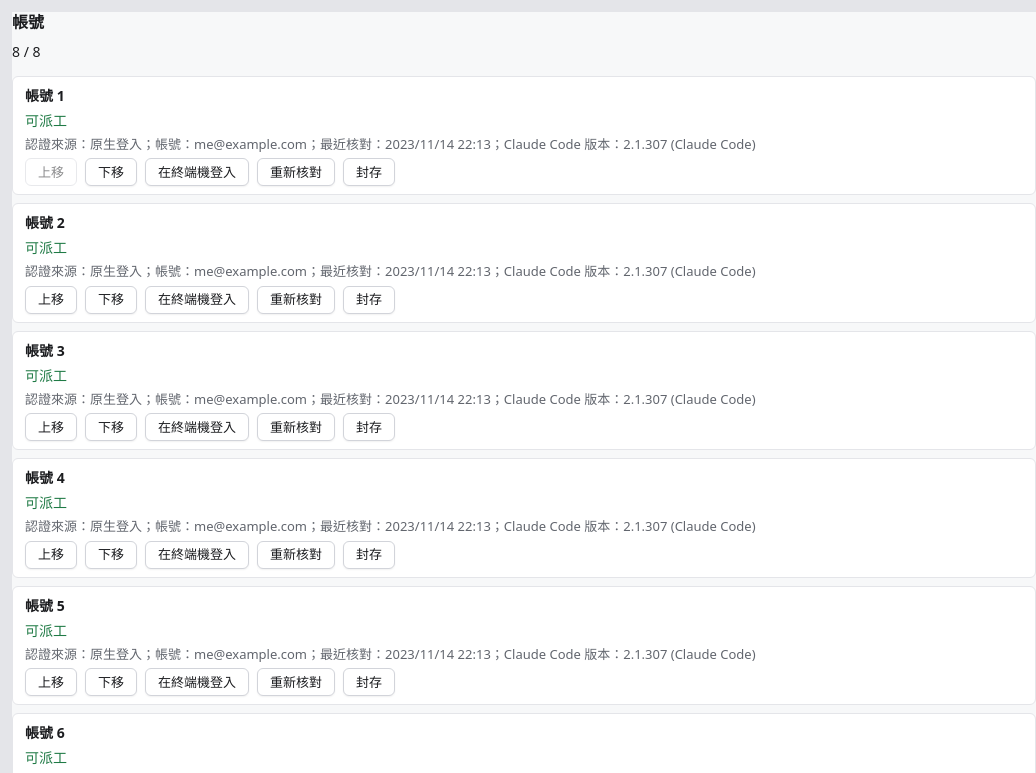
Test: 帳號頁 › 已有 8 個 Profile 時不能再新增，並說明上限；封存後恢復
The image size is (1036, 773).
Expected: the text "8 / 8" is shown, [12,42,40,61]
Click the button with aria-label "封存 帳號 1".
click(369, 172)  # box [343,158,395,186]
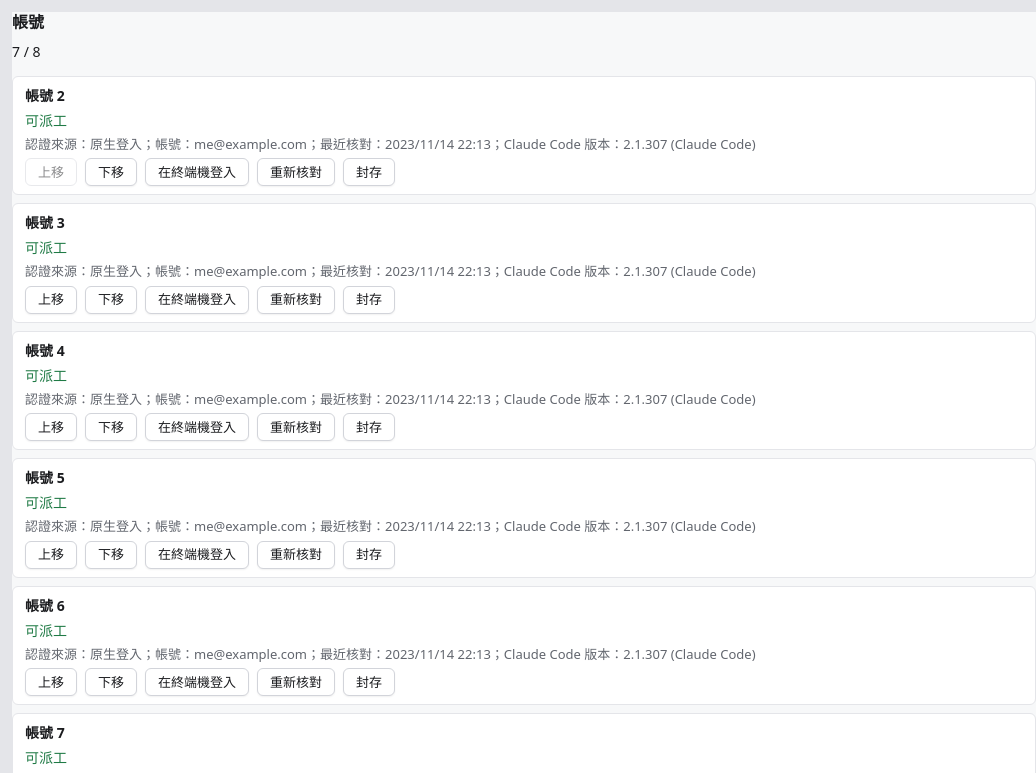
Now the text "7 / 8" is shown, box [12,42,40,61]
